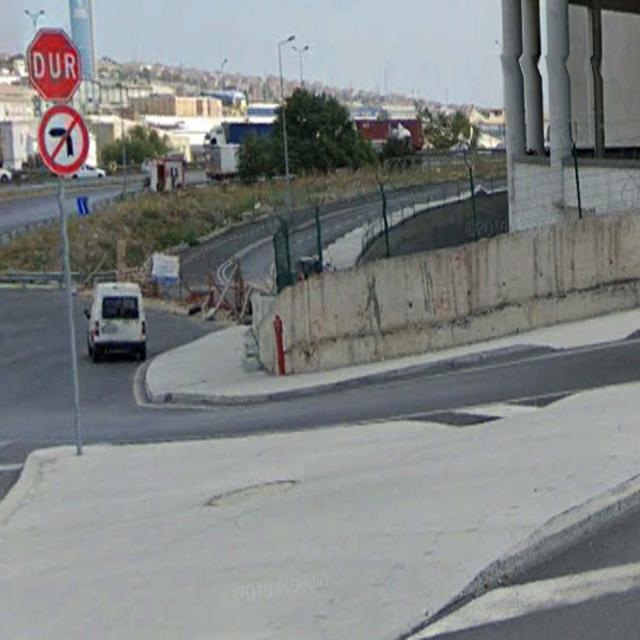dur: (28, 27, 82, 102)
soladonulmez: (39, 104, 90, 176)
